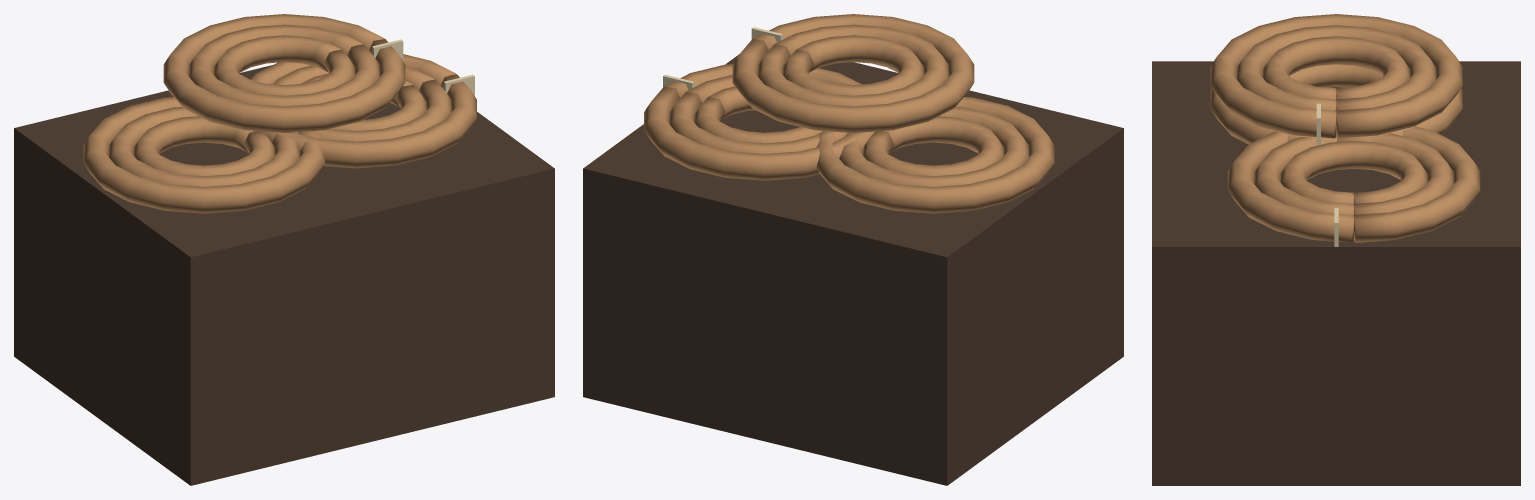
Rendered from rope_coils.glb.
3 renders of one model, left to right at view 1: azimuth 30°, elevation 25°; view 2: azimuth 150°, elevation 25°; view 3: azimuth 270°, elevation 25°, orthographic. The views are drawn at different scales.
Parts seen in each view (by area): view 1: rope_coils; view 2: rope_coils; view 3: rope_coils.
Part boxes in pixels (x1,y1,x2,y2): rope_coils: (14, 14, 554, 485); rope_coils: (583, 14, 1123, 485); rope_coils: (1152, 14, 1520, 485).
Bounding box in the file's own units: 0.516 × 0.415 × 0.42.
